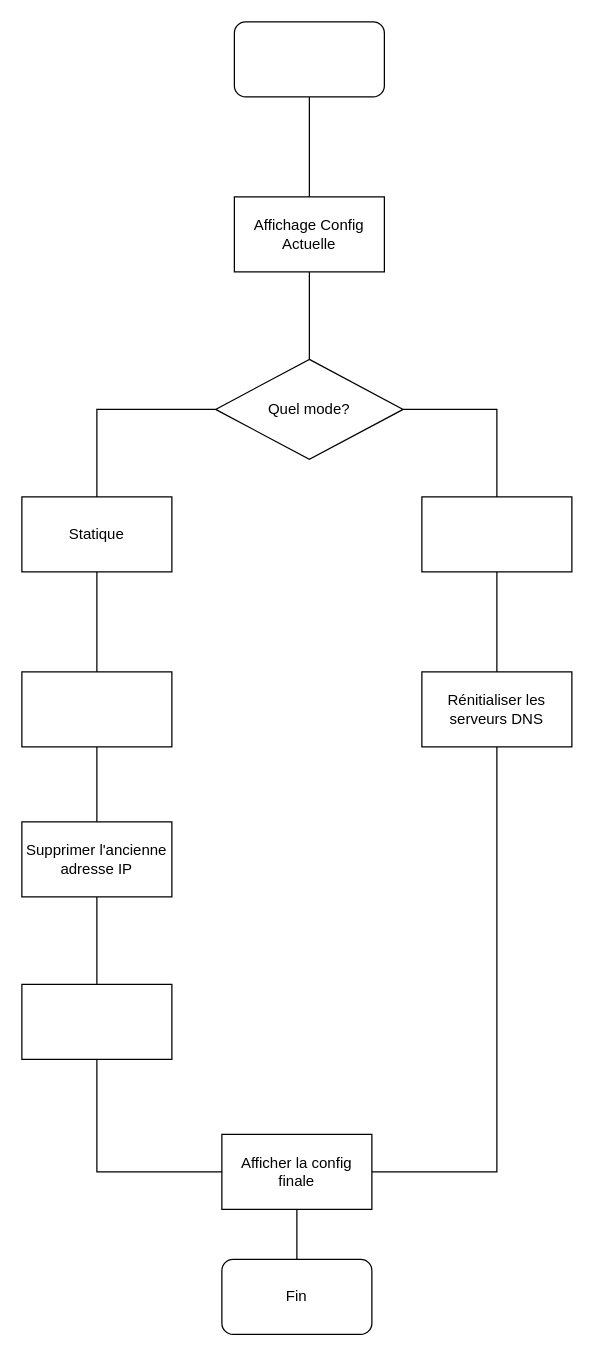
The diagram is 594 pixels wide and 1356 high, and some of its shapes have lost their labels. The centre of each missing label's shape, as x and y in pixels:
"Activer DHCP" belongs at point (496, 534).
"Appliquer la nouvelle adresse IP + DNS" belongs at point (96, 1021).
"Saisie InterfaceAlias" belongs at point (308, 59).
"Saisie IP / GW / DNS" belongs at point (96, 709).
